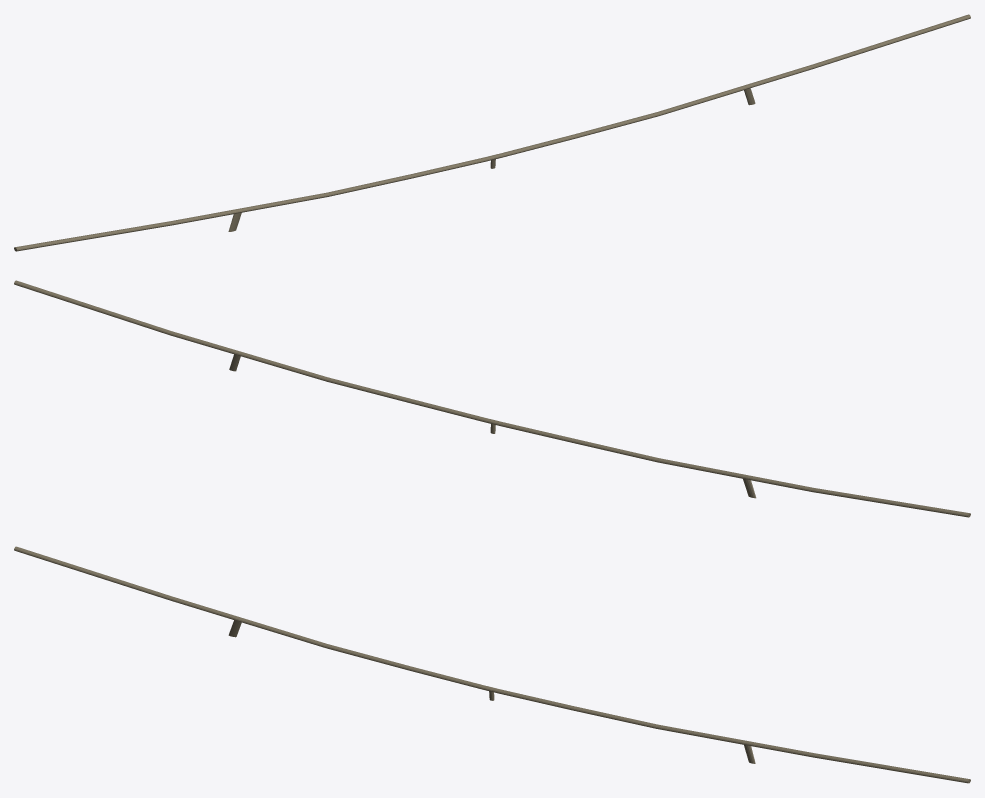
File: rope.fbx
The picture shows the model from 3 angles, top to bottom: view 1: azimuth 30°, elevation 25°; view 2: azimuth 150°, elevation 25°; view 3: azimuth 330°, elevation 25°; orthographic projection.
Parts seen in each view (by area): view 1: Cylinder; view 2: Cylinder; view 3: Cylinder.
Boxes of the visible parts, x1,y1,x2,y2 form: Cylinder: [14, 14, 970, 251]; Cylinder: [14, 280, 970, 517]; Cylinder: [14, 546, 970, 783].
Size of the model in its own units: 17837 by 653 by 142.
